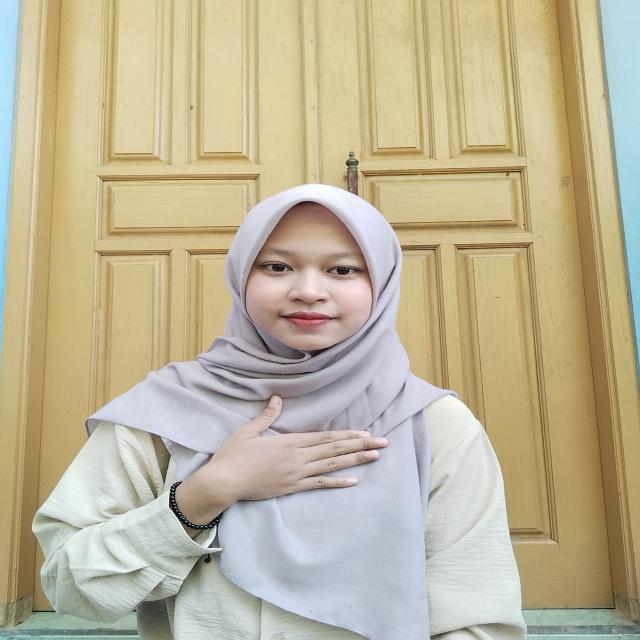tolong: (129, 392, 377, 523)
